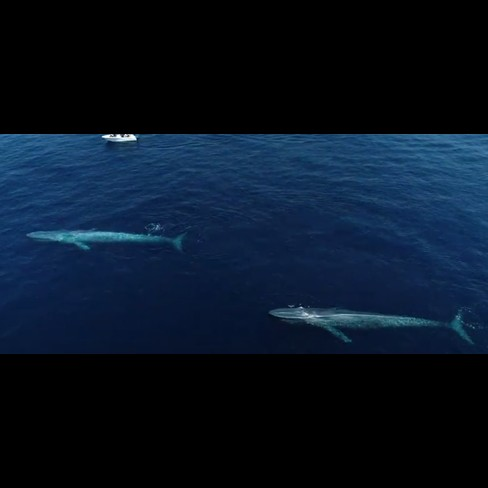bluewhale: (267, 301, 480, 350), (26, 223, 192, 261)
